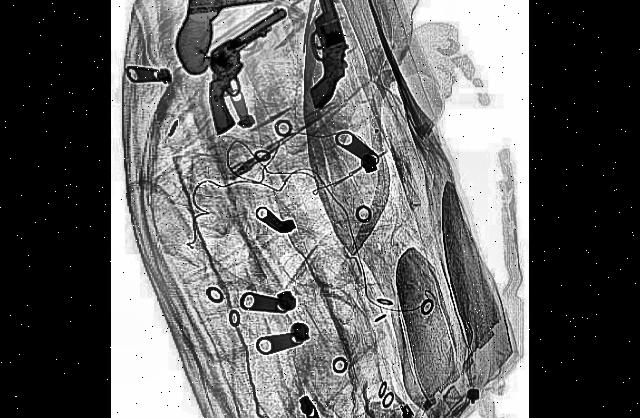Gun: (197, 3, 301, 138), (283, 0, 357, 115)
Knife: (169, 0, 307, 79)
